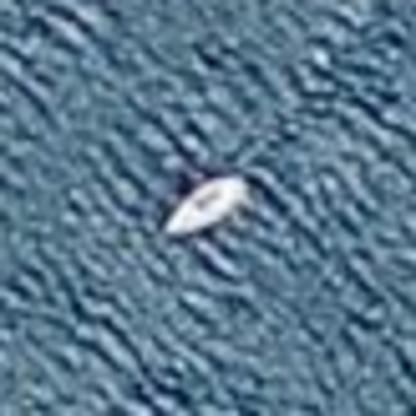ship: (154, 170, 252, 236)
